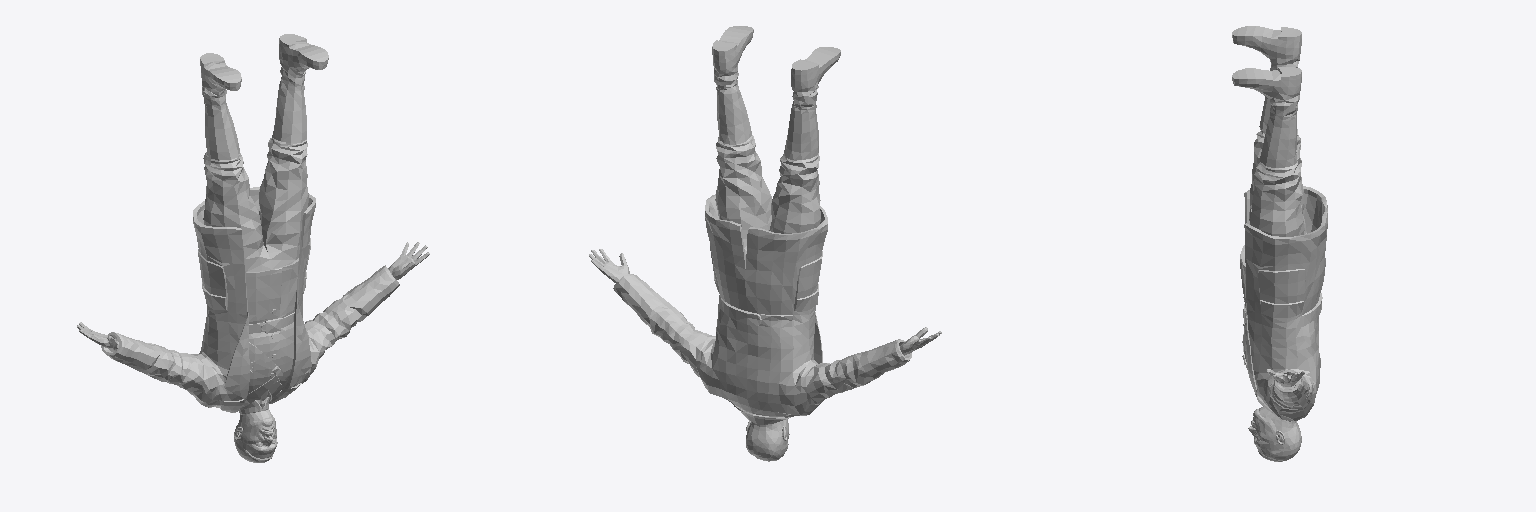
File: hitlerout.obj
3 renders of one model, left to right at view 1: azimuth 30°, elevation 25°; view 2: azimuth 150°, elevation 25°; view 3: azimuth 270°, elevation 25°, orthographic.
Parts seen in each view (by area): view 1: mesh003, mesh005, mesh002, mesh004; view 2: mesh003, mesh005, mesh002, mesh004; view 3: mesh003, mesh005, mesh002.
Part boxes in pixels (x1,y1,x2,y2): mesh003: (101, 34, 399, 412); mesh005: (203, 138, 308, 407); mesh002: (234, 391, 277, 462); mesh004: (77, 242, 429, 351); mesh003: (613, 26, 911, 424); mesh005: (715, 135, 820, 417); mesh002: (746, 419, 789, 461); mesh004: (589, 249, 941, 355); mesh003: (1232, 26, 1327, 421); mesh005: (1240, 128, 1306, 361); mesh002: (1248, 406, 1301, 461).
Bounding box in the file's own units: 1.73 × 1.94 × 0.4157.